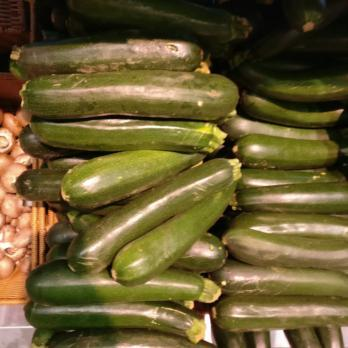Cucumber: (19, 0, 348, 348)
